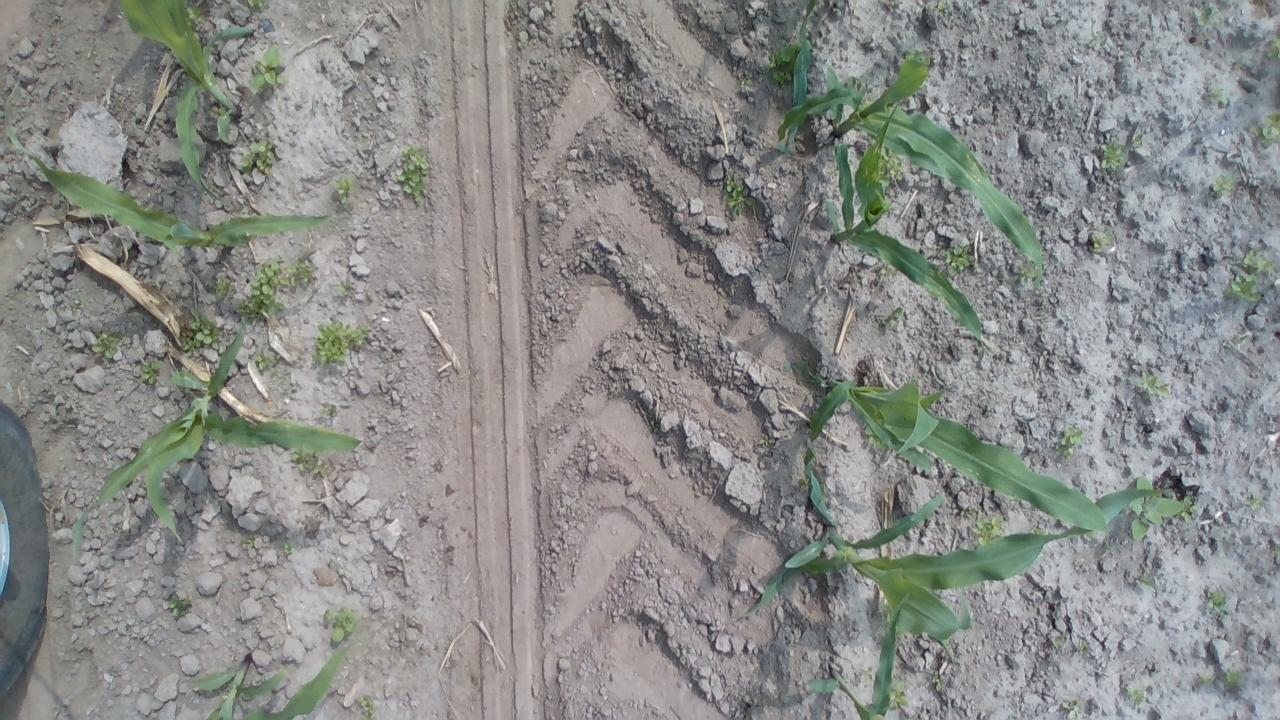Maize: (70, 330, 362, 562), (732, 488, 1166, 640), (776, 50, 1044, 296), (780, 358, 1112, 534), (4, 80, 334, 256), (826, 100, 986, 374), (118, 0, 256, 204), (188, 640, 352, 720), (829, 590, 911, 720), (786, 0, 831, 146)
Weeds: (234, 252, 320, 330), (1131, 475, 1184, 542), (311, 320, 371, 369), (395, 142, 432, 207), (180, 304, 220, 357), (248, 42, 286, 92), (241, 135, 275, 179), (323, 605, 358, 646), (764, 42, 794, 86), (726, 172, 756, 216), (287, 451, 329, 478), (1225, 273, 1262, 302), (1250, 112, 1280, 147), (974, 511, 1007, 540), (945, 243, 970, 281), (1238, 250, 1276, 275), (1138, 369, 1170, 398), (331, 172, 358, 205), (1056, 424, 1082, 458), (91, 332, 120, 362), (1098, 139, 1126, 169), (874, 304, 906, 330), (166, 590, 193, 620), (1210, 172, 1241, 198), (136, 360, 163, 388), (883, 152, 904, 185), (250, 348, 277, 373), (1121, 682, 1146, 708), (1222, 660, 1244, 688), (1206, 586, 1228, 613), (336, 274, 356, 300), (354, 694, 376, 717), (1016, 260, 1035, 286), (1194, 4, 1216, 26), (1090, 230, 1114, 250), (1182, 495, 1198, 525), (1061, 700, 1085, 720), (892, 682, 908, 712), (214, 274, 234, 298), (1136, 570, 1157, 592), (1264, 33, 1280, 58), (1206, 84, 1227, 103), (186, 1, 202, 22), (1242, 494, 1264, 509), (876, 264, 894, 282), (932, 669, 946, 692), (1131, 133, 1148, 150), (1051, 633, 1067, 650), (282, 538, 296, 556), (321, 402, 336, 418), (1086, 32, 1100, 49), (860, 667, 873, 684), (1198, 673, 1214, 686), (1072, 638, 1088, 651), (760, 435, 776, 446), (740, 77, 753, 90), (72, 298, 84, 311), (246, 533, 256, 548), (1231, 59, 1243, 71), (966, 506, 977, 518), (1030, 526, 1046, 534), (247, 0, 264, 6), (798, 478, 808, 487)
